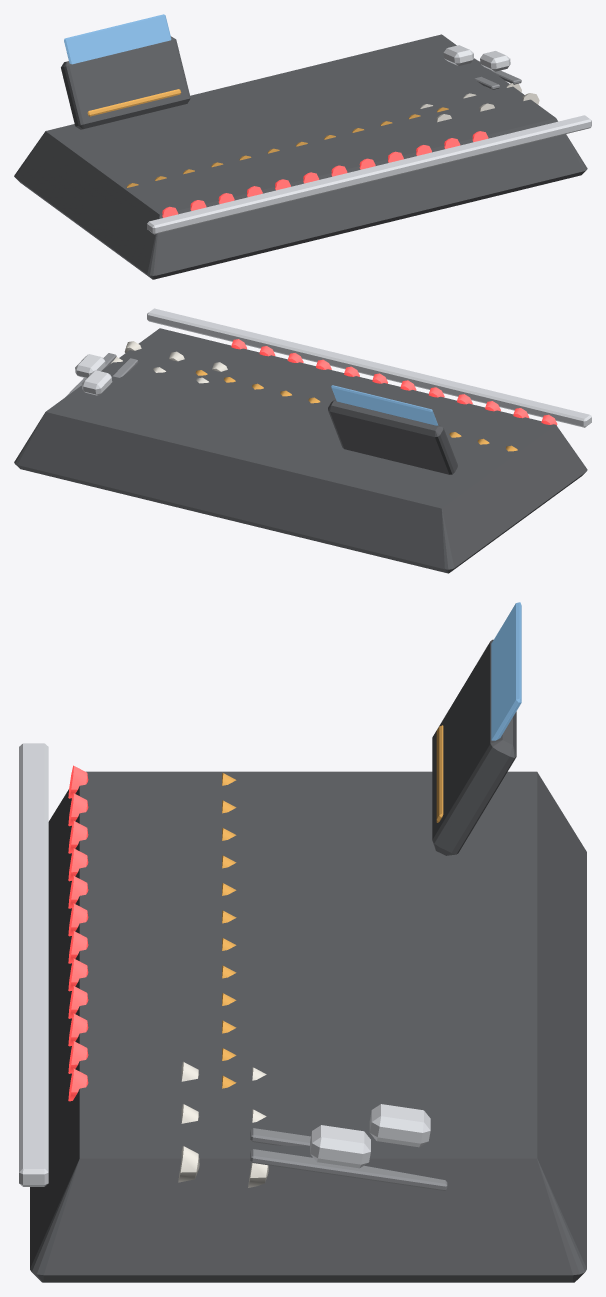
File: 35512_Vision_Mixer_Panel__TV_Studio_and_Broadcast_Gallery_.glb
The picture shows the model from 3 angles, top to bottom: view 1: azimuth 30°, elevation 25°; view 2: azimuth 150°, elevation 25°; view 3: azimuth 270°, elevation 25°; orthographic projection. The views are drawn at different scales.
Parts seen in each view (by area): view 1: vision-mixer-panel; view 2: vision-mixer-panel; view 3: vision-mixer-panel.
Boxes of the visible parts, x1,y1,x2,y2 form: vision-mixer-panel: [14, 14, 591, 279]; vision-mixer-panel: [14, 308, 591, 573]; vision-mixer-panel: [19, 602, 586, 1282].
Bounding box in the file's own units: 1.02 × 0.3245 × 0.571.
